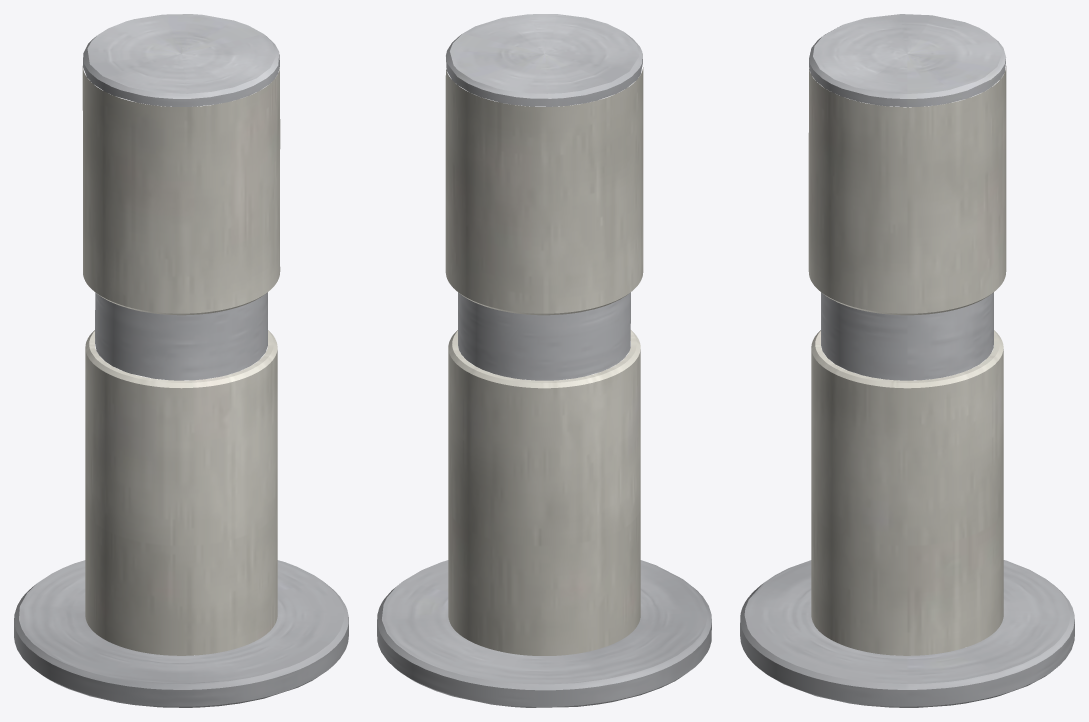
File: ferro-orbis_rook_white.glb
3 views of the same model, side by side, from view 1: azimuth 30°, elevation 25°; view 2: azimuth 150°, elevation 25°; view 3: azimuth 270°, elevation 25° (orthographic).
Parts seen in each view (by area): view 1: ferro-orbis_rook_white; view 2: ferro-orbis_rook_white; view 3: ferro-orbis_rook_white.
Boxes of the visible parts, x1=… form: ferro-orbis_rook_white: x1=14, y1=14, x2=348, y2=707; ferro-orbis_rook_white: x1=377, y1=14, x2=711, y2=707; ferro-orbis_rook_white: x1=740, y1=14, x2=1074, y2=707.
Size of the model in its own units: 0.0311 by 0.06 by 0.0312.
Materials: 3 (3 with a texture image).
